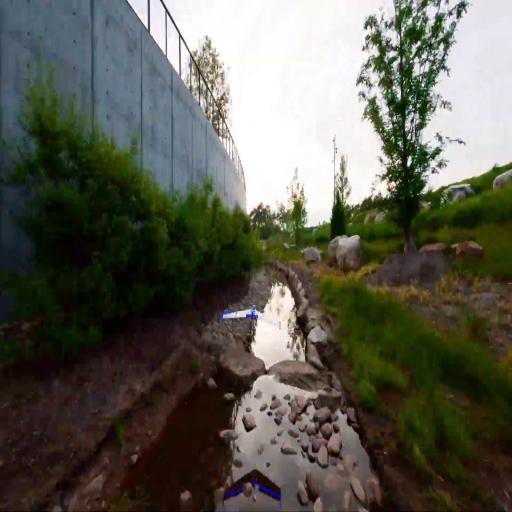uav: (214, 300, 286, 340)
